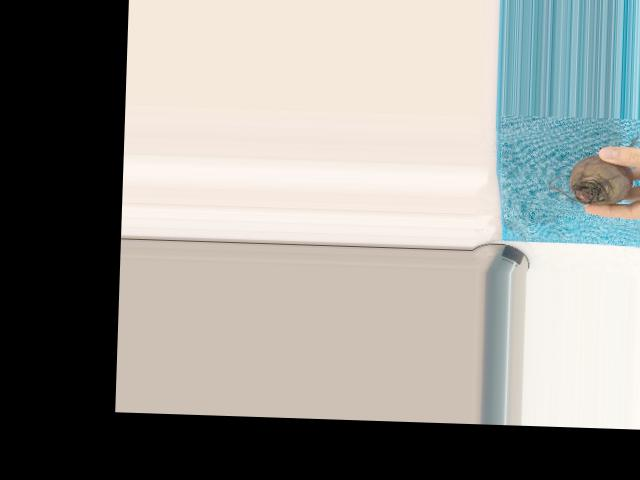beet: (548, 132, 638, 205)
